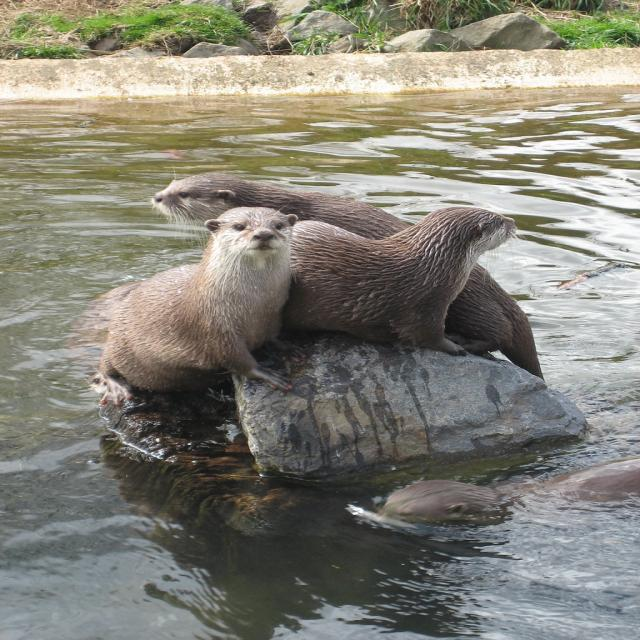otter: (156, 175, 543, 380), (103, 208, 298, 404), (283, 209, 518, 355)
